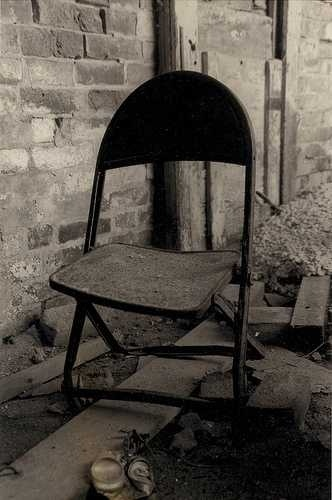obstacle: (49, 71, 253, 411)
